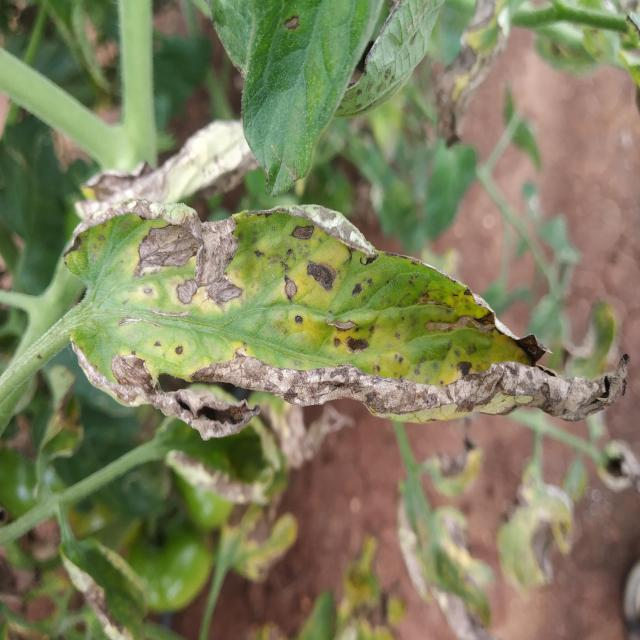Early Blight: (62, 197, 630, 440)
